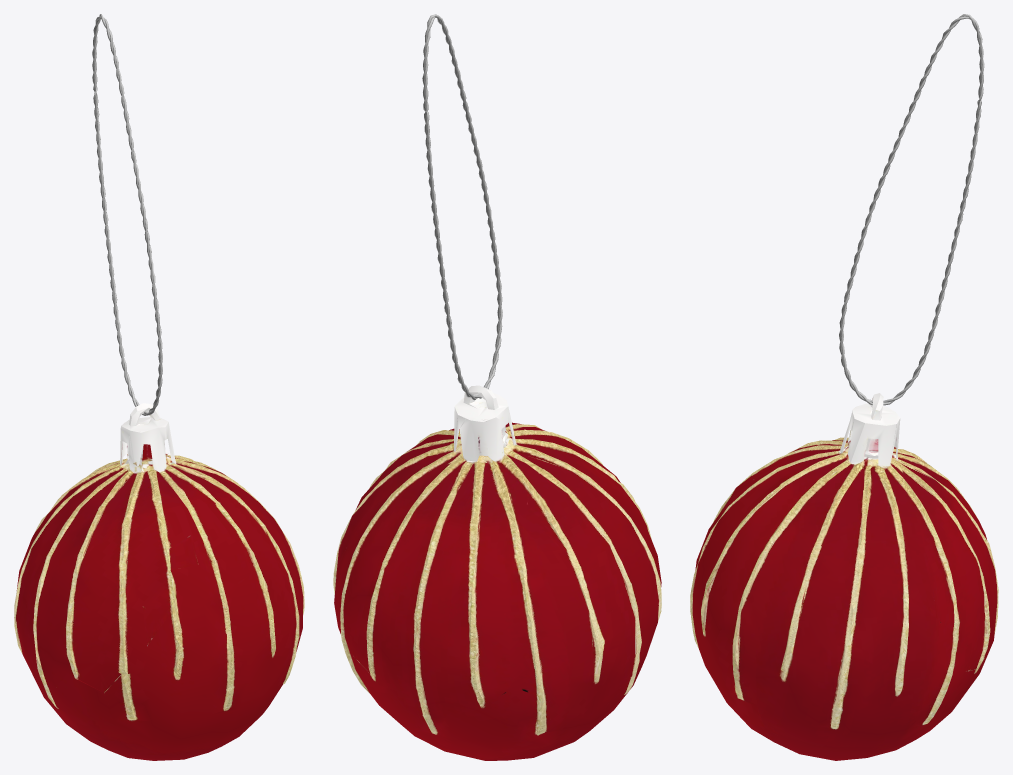
Rendered from Red_Ornament_with_Gold.glb.
The picture shows the model from 3 angles, left to right: view 1: azimuth 30°, elevation 25°; view 2: azimuth 150°, elevation 25°; view 3: azimuth 270°, elevation 25°; orthographic projection. The views are drawn at different scales.
Parts seen in each view (by area): view 1: Mesh1.0, GN Instance; view 2: Mesh1.0, GN Instance; view 3: Mesh1.0, GN Instance.
Part boxes in pixels (bbox=[...]): Mesh1.0: bbox=[14, 403, 304, 760]; GN Instance: bbox=[92, 14, 162, 415]; Mesh1.0: bbox=[333, 385, 661, 760]; GN Instance: bbox=[422, 14, 502, 400]; Mesh1.0: bbox=[690, 393, 998, 760]; GN Instance: bbox=[839, 14, 984, 405].
Size of the model in its own units: 0.0547 by 0.1442 by 0.0549.
2 materials, 1 textured.
